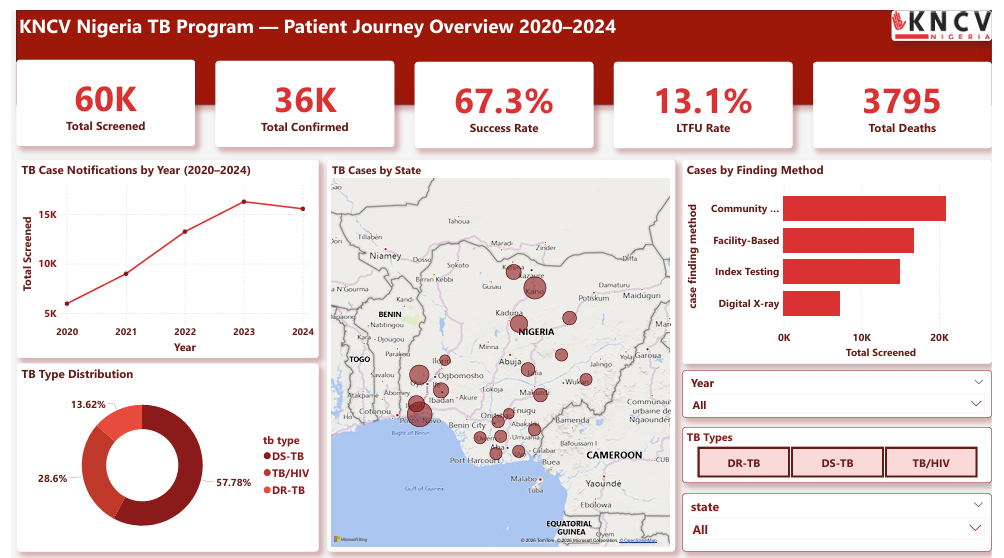

This screenshot's page, from the dashboard's own definition file:
{"tool":"powerbi","page":{"name":"Page 1","canvas":[1920,1080],"ordinal":0},"visuals":[{"type":"shape","box":[10.1,0,1909.9,186.5],"z":0},{"type":"textbox","box":[10.1,0,1884.7,148.7],"z":1000},{"type":"card","title":"Total Patients Screened","fields":{"Values":["kncv_nigeria_tb_data_cleaned.Total Screened"]},"box":[10.1,97,350,168.8],"z":2000},{"type":"card","fields":{"Values":["feature_importance.Total Confirmed"]},"box":[399.8,98.9,350.2,168.8],"z":3000},{"type":"card","fields":{"Values":["feature_importance.Success Rate"]},"box":[789.8,100.8,350.2,168.8],"z":4000},{"type":"card","fields":{"Values":["feature_importance.LTFU Rate"]},"box":[1179.8,100.8,350.2,168.8],"z":5000},{"type":"card","fields":{"Values":["kncv_nigeria_tb_data_cleaned.Total Deaths"]},"box":[1569.8,100.8,350.2,168.8],"z":6000},{"type":"lineChart","title":"TB Case Notifications by Year (2020–2024)","fields":{"Category":["kncv_nigeria_tb_data_cleaned.screening_date.Variation.Date Hierarchy.Year"],"Y":["kncv_nigeria_tb_data_cleaned.Total Screened"]},"box":[11,293.1,590.7,387.9],"z":7000},{"type":"clusteredBarChart","title":"Cases by Finding Method","fields":{"Y":["kncv_nigeria_tb_data_cleaned.Total Screened"],"Category":["kncv_nigeria_tb_data_cleaned.case_finding_method"]},"box":[1313.6,293.1,606.1,398.9],"z":8000},{"type":"slicer","fields":{"Values":["kncv_nigeria_tb_data_cleaned.screening_date.Variation.Date Hierarchy.Year"]},"box":[1313.6,705.3,606.1,92.6],"z":9000},{"type":"slicer","title":"TB Types","fields":{"Values":["kncv_nigeria_tb_data_cleaned.tb_type"]},"box":[1313.6,815.5,606.1,110.2],"z":10000},{"type":"slicer","fields":{"Values":["kncv_nigeria_tb_data_cleaned.state"]},"box":[1313.6,945.6,606.1,114.6],"z":11000},{"type":"donutChart","title":"TB Type Distribution","fields":{"Category":["kncv_nigeria_tb_data_cleaned.tb_type"],"Y":["kncv_nigeria_tb_data_cleaned.Total Screened"]},"box":[11,692.1,590.7,368.1],"z":12000},{"type":"map","title":"TB Cases by State","fields":{"Size":["kncv_nigeria_tb_data_cleaned.Total Screened"],"Category":["kncv_nigeria_tb_data_cleaned.state"]},"box":[619.3,293.1,681.1,767],"z":13000},{"type":"image","box":[1723.6,0,196.2,59.5],"z":14000}]}

Visuals, with their boxes in screenshot pixels (x1, y1, x2, y2), scaled from the page's 1920x1080 canvas onto the 1004x558 screenshot:
shape: region(5, 0, 1003, 96)
textbox: region(5, 0, 991, 77)
"Total Patients Screened" card: region(5, 50, 188, 137)
card - feature_importance.Total Confirmed: region(209, 51, 392, 138)
card - feature_importance.Success Rate: region(413, 52, 596, 139)
card - feature_importance.LTFU Rate: region(617, 52, 800, 139)
card - kncv_nigeria_tb_data_cleaned.Total Deaths: region(821, 52, 1003, 139)
"TB Case Notifications by Year (2020–2024)" lineChart: region(6, 151, 315, 352)
"Cases by Finding Method" clusteredBarChart: region(687, 151, 1003, 358)
slicer - kncv_nigeria_tb_data_cleaned.screening_date.Variation.Date Hierarchy.Year: region(687, 364, 1003, 412)
"TB Types" slicer: region(687, 421, 1003, 478)
slicer - kncv_nigeria_tb_data_cleaned.state: region(687, 489, 1003, 548)
"TB Type Distribution" donutChart: region(6, 358, 315, 548)
"TB Cases by State" map: region(324, 151, 680, 548)
image: region(901, 0, 1003, 31)
